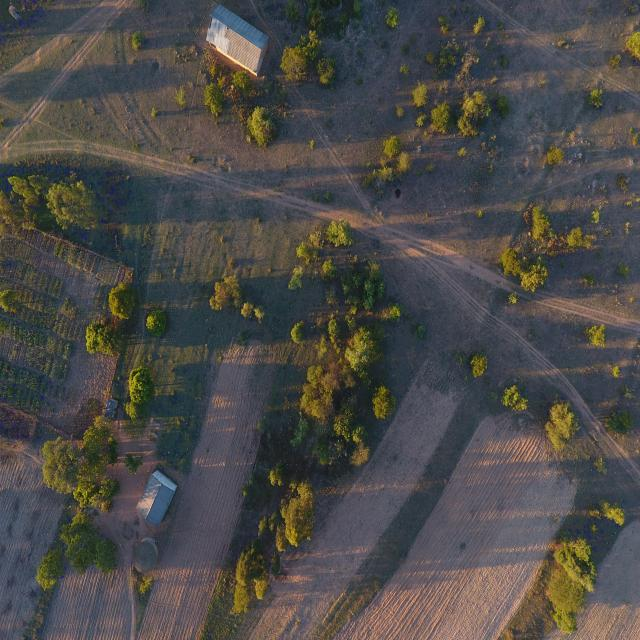boundaries: (389, 427, 480, 542)
